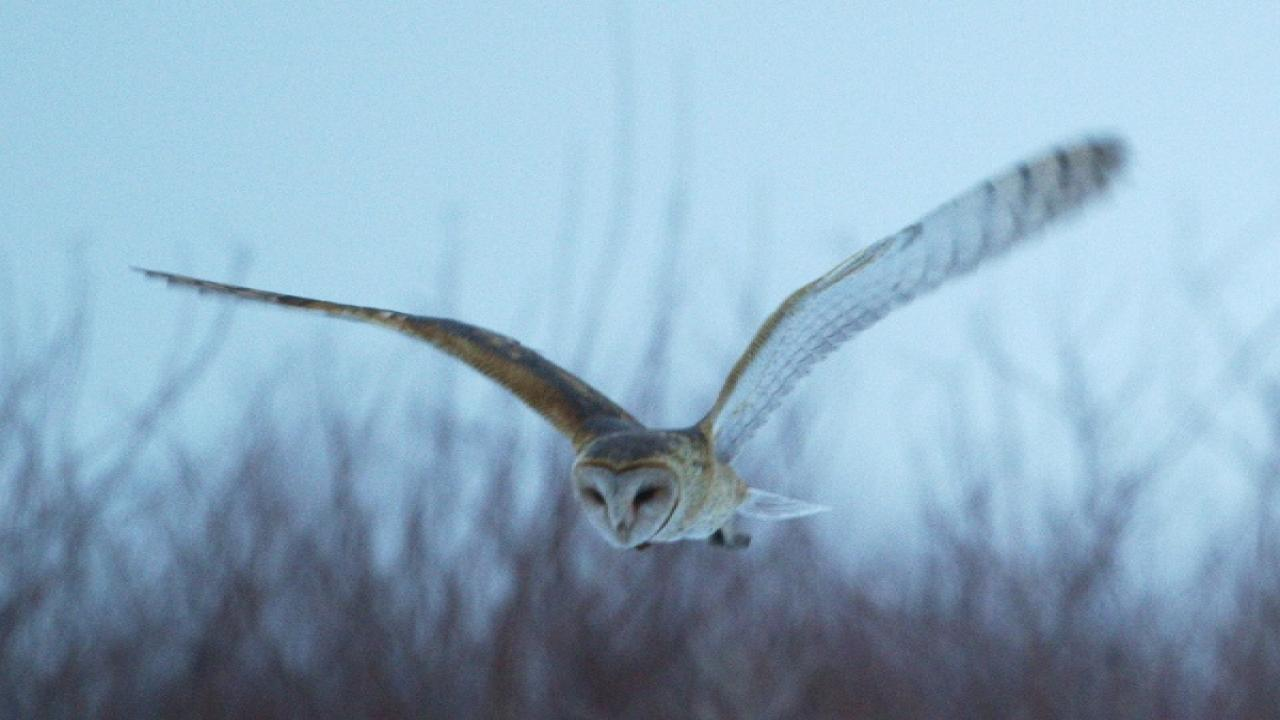Bird: (114, 125, 1165, 562)
